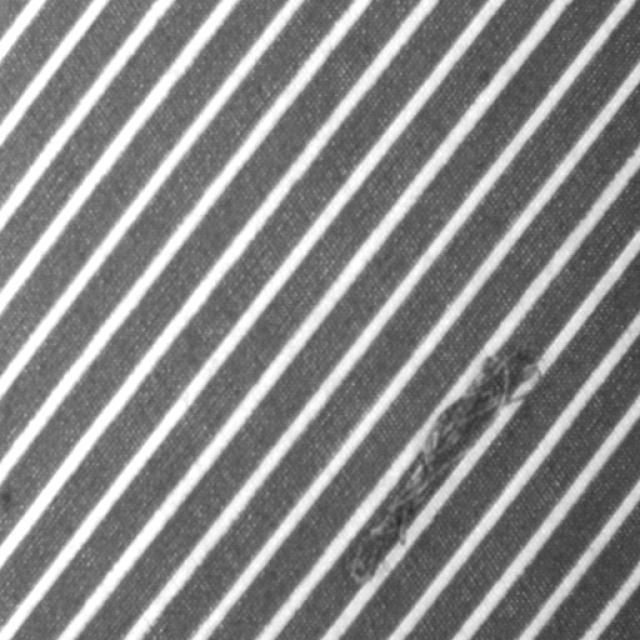Foreign-Body-Defect: (345, 350, 541, 585)
